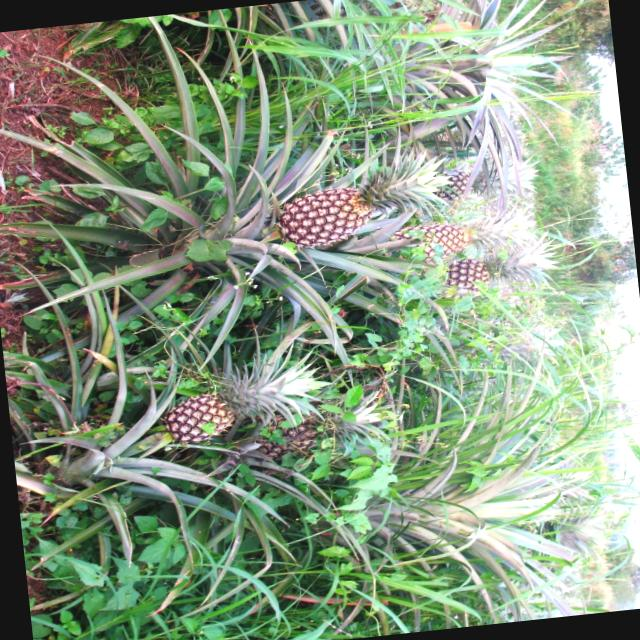pork: (272, 167, 410, 249), (156, 378, 276, 451), (401, 216, 489, 264), (439, 255, 498, 292)
